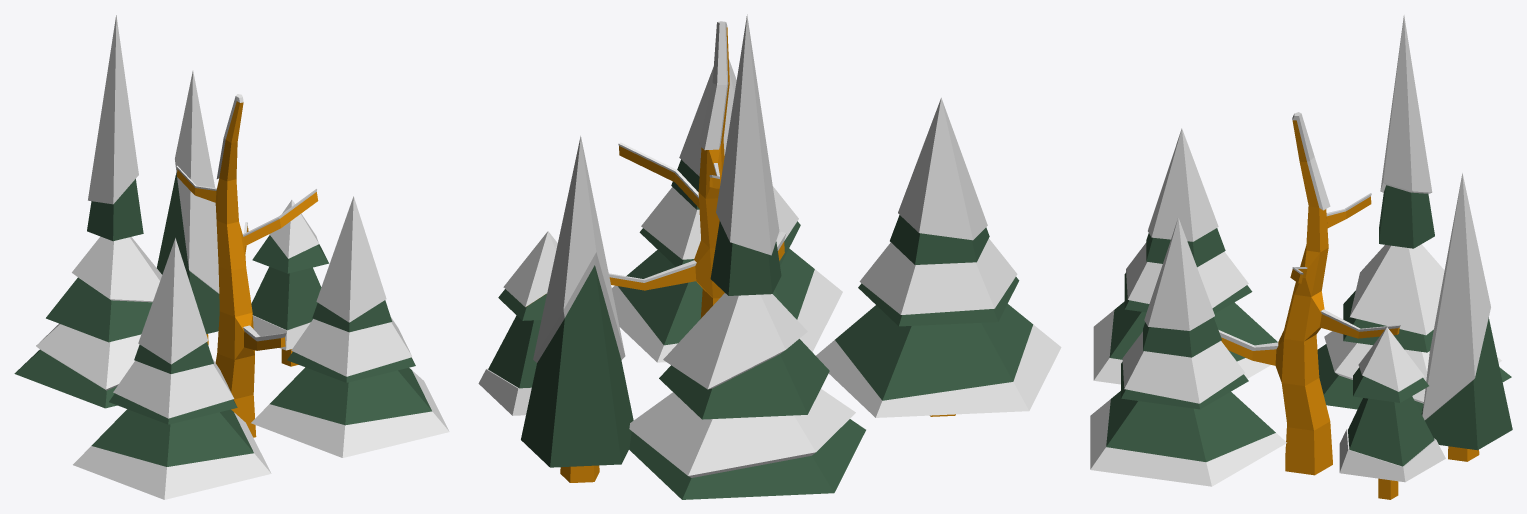
The model's file is pinos_nevados.glb.
The picture shows the model from 3 angles, left to right: view 1: azimuth 30°, elevation 25°; view 2: azimuth 150°, elevation 25°; view 3: azimuth 270°, elevation 25°; orthographic projection. The views are drawn at different scales.
Visible parts, largest first — view 1: Cylinder.016, Cylinder.009, Cylinder.008, Cylinder.005, Cylinder.003, Cylinder.001; view 2: Cylinder.008, Cylinder.016, Cylinder.003, Cylinder.009, Cylinder.005, Cylinder.001; view 3: Cylinder.009, Cylinder.008, Cylinder.003, Cylinder.005, Cylinder.016, Cylinder.001.
Part boxes in pixels (left/top/right/bottom): Cylinder.016: left=73, top=238, right=271, bottom=499; Cylinder.009: left=251, top=196, right=449, bottom=457; Cylinder.008: left=14, top=15, right=162, bottom=408; Cylinder.005: left=176, top=94, right=318, bottom=437; Cylinder.003: left=157, top=70, right=219, bottom=344; Cylinder.001: left=251, top=200, right=328, bottom=366; Cylinder.008: left=629, top=14, right=865, bottom=499; Cylinder.016: left=816, top=98, right=1061, bottom=417; Cylinder.003: left=521, top=135, right=633, bottom=482; Cylinder.009: left=612, top=58, right=842, bottom=362; Cylinder.005: left=609, top=21, right=786, bottom=318; Cylinder.001: left=478, top=231, right=557, bottom=415; Cylinder.009: left=1090, top=217, right=1286, bottom=486; Cylinder.008: left=1317, top=15, right=1511, bottom=413; Cylinder.003: left=1421, top=173, right=1512, bottom=461; Cylinder.005: left=1218, top=112, right=1400, bottom=475; Cylinder.016: left=1093, top=128, right=1277, bottom=384; Cylinder.001: left=1339, top=327, right=1445, bottom=499.
Size of the model in its own units: 12.78 by 14.01 by 12.92.
